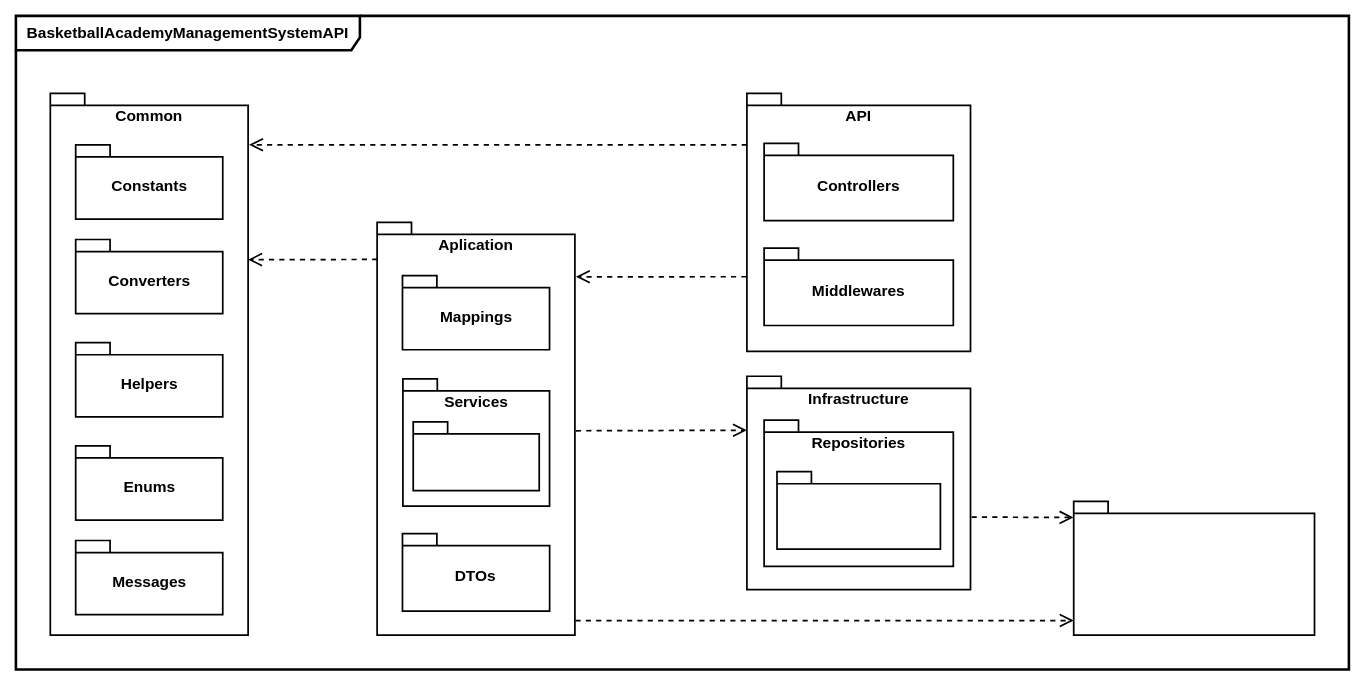
The diagram is 1365 pixels wide and 685 high, and some of its shapes have lost their labels. Each missing label, with the centre of its shape:
Models: point 1193,568
RepoImpl: point 858,510
ServiceImpl: point 476,456
